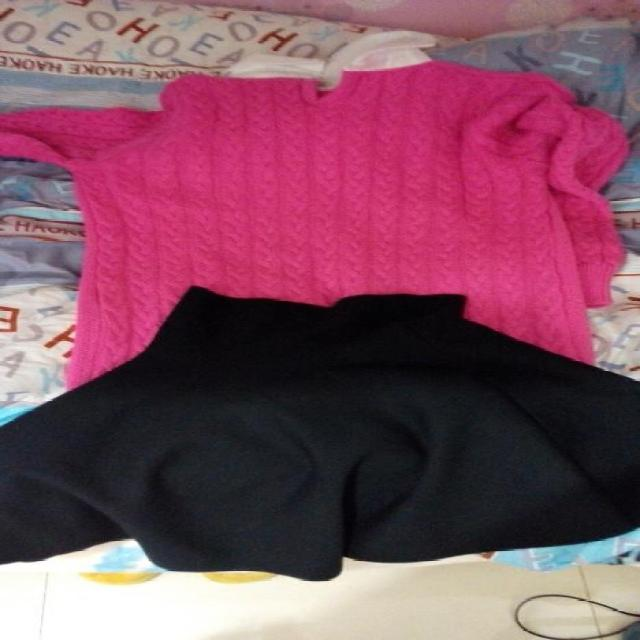long sleeve top: (1, 60, 633, 405)
skirt: (0, 286, 639, 581)
